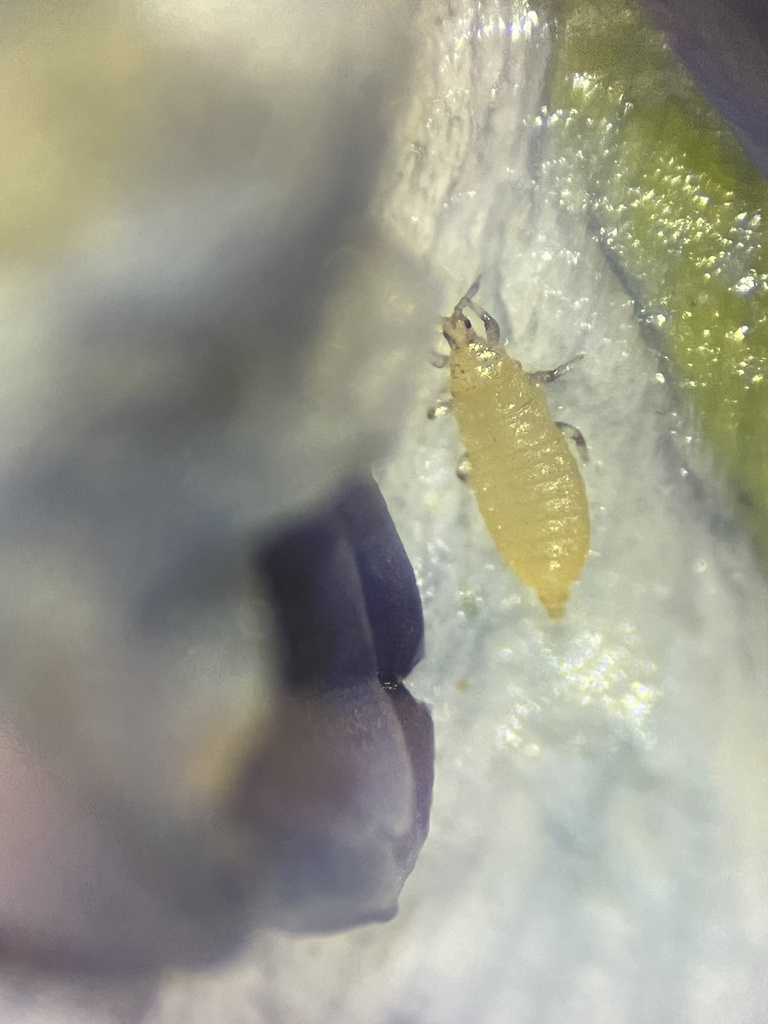tiny_pests: (369, 199, 693, 663)
